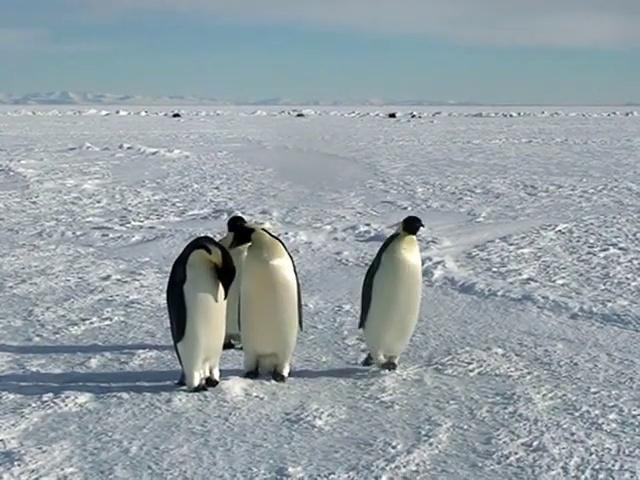animal: (359, 216, 423, 369)
